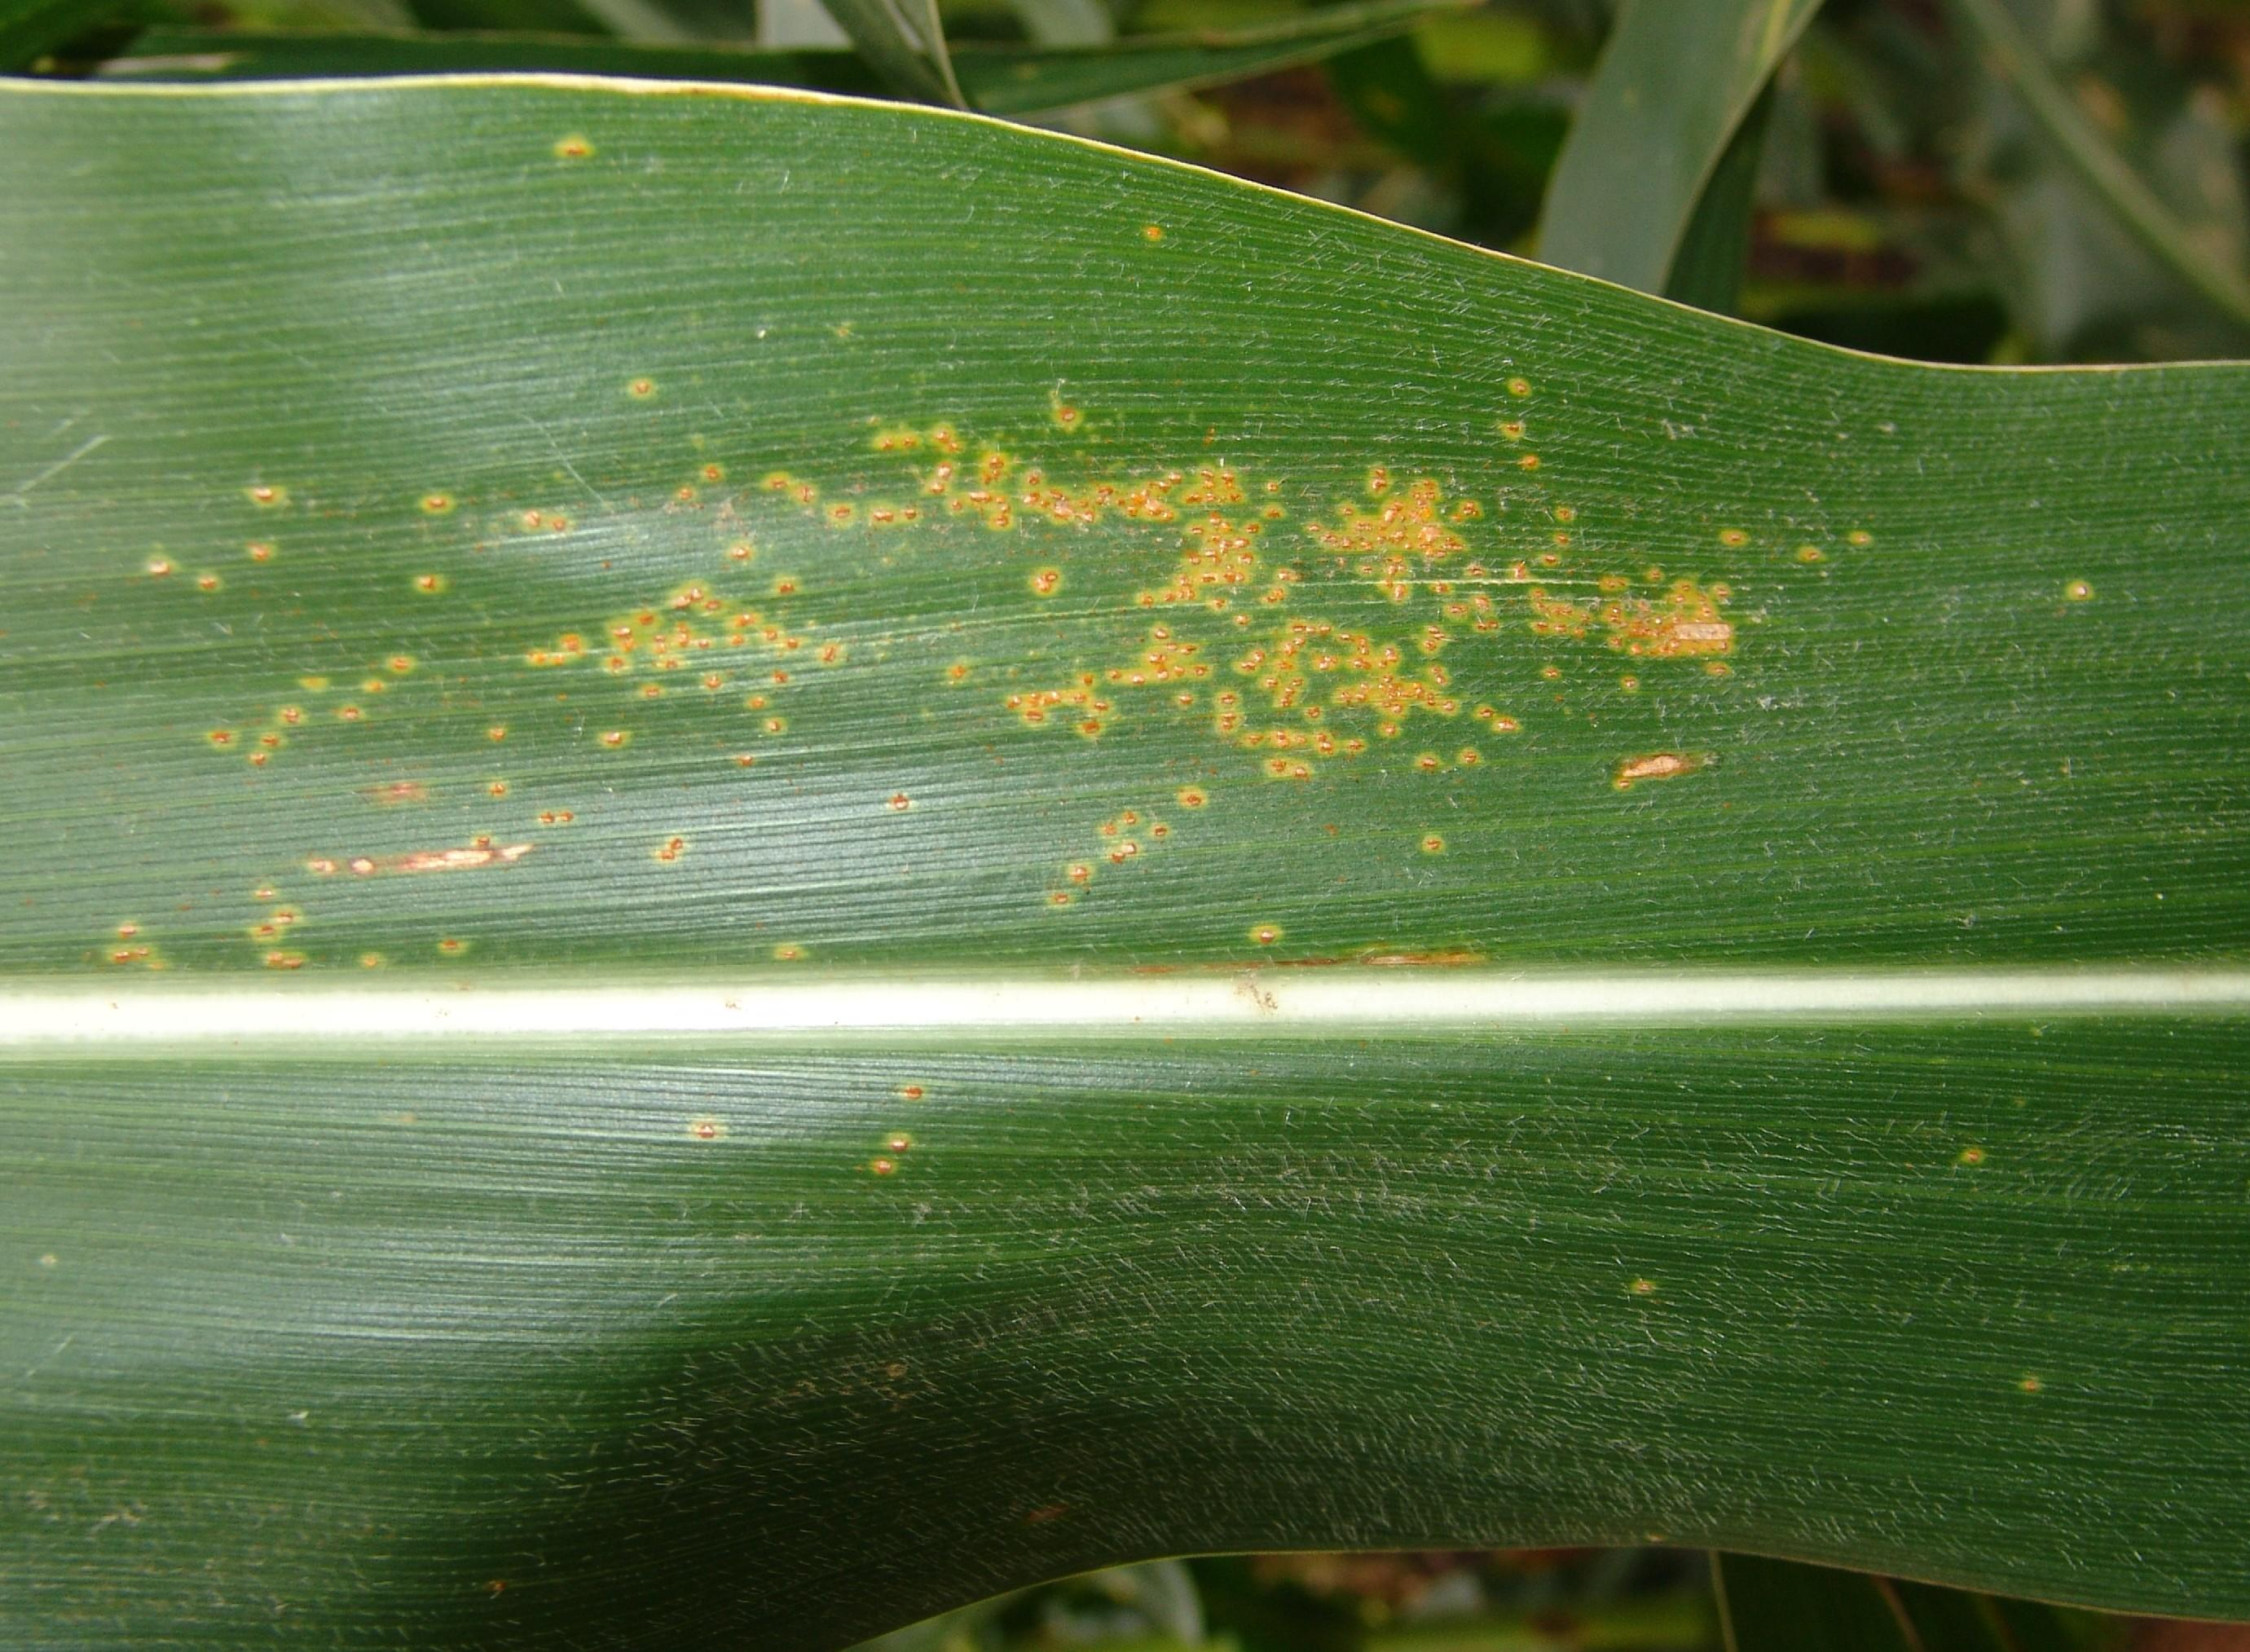Corn rust leaf: (24, 87, 2227, 1633)
